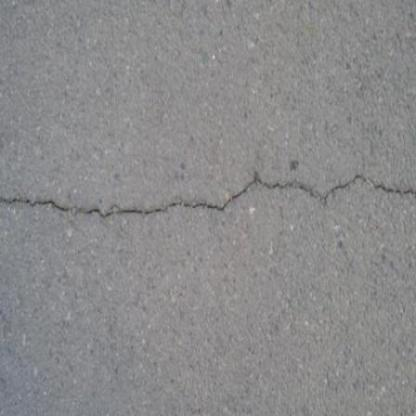Cracks: (3, 160, 416, 233)
